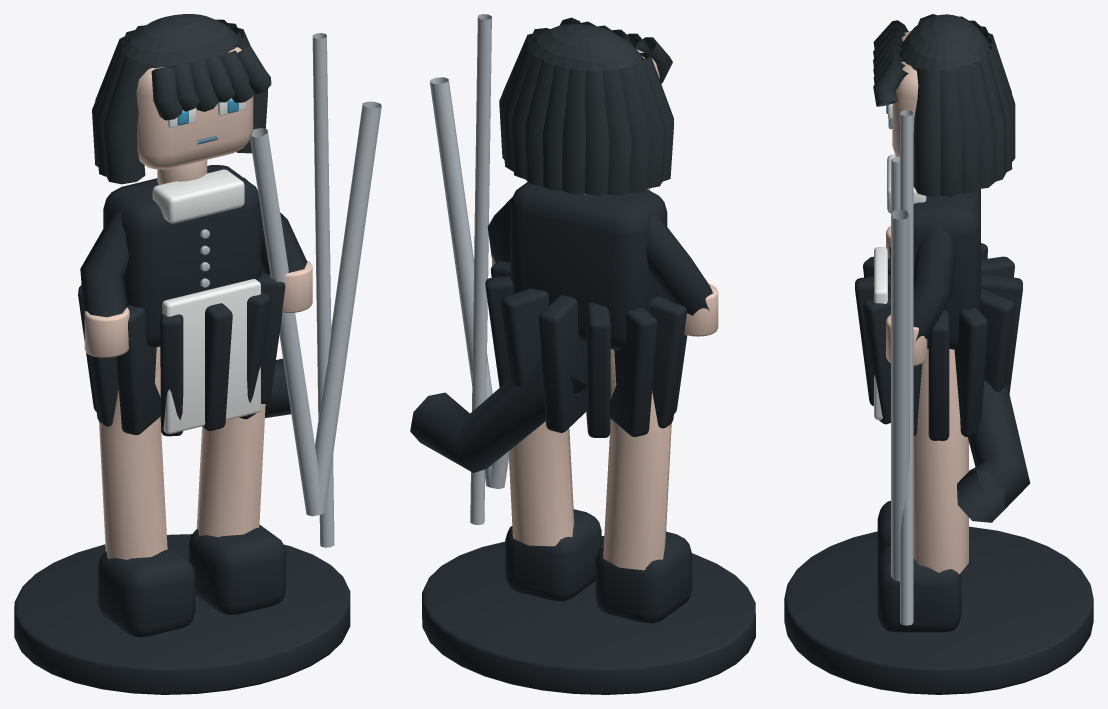
Rendered from ellen-display-figurine.glb.
3 views of the same model, side by side, from view 1: azimuth 30°, elevation 25°; view 2: azimuth 150°, elevation 25°; view 3: azimuth 270°, elevation 25° (orthographic).
Parts seen in each view (by area): view 1: ellen-display-figurine; view 2: ellen-display-figurine; view 3: ellen-display-figurine.
Part boxes in pixels (bbox=[...]): ellen-display-figurine: bbox=[14, 14, 381, 694]; ellen-display-figurine: bbox=[410, 14, 755, 694]; ellen-display-figurine: bbox=[784, 14, 1093, 694].
Size of the model in its own units: 0.17 by 0.3 by 0.14.
